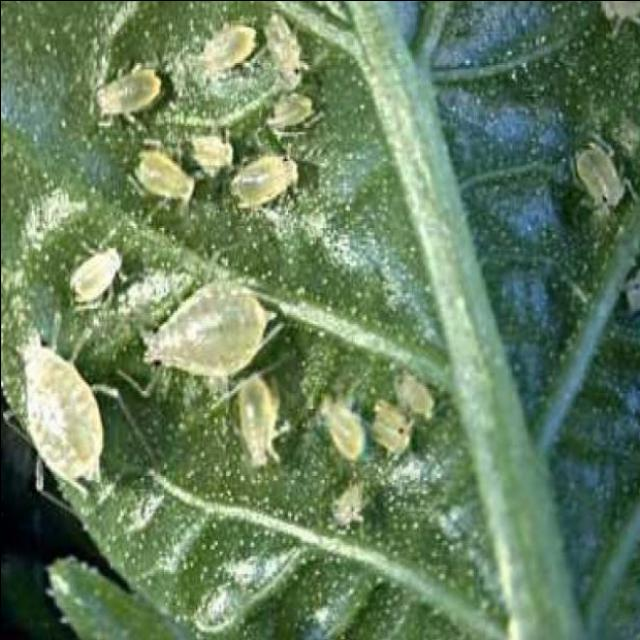Aphids: (83, 8, 331, 216), (1, 308, 178, 530), (107, 222, 303, 416), (306, 372, 440, 462), (200, 367, 290, 482), (38, 212, 138, 310), (554, 132, 640, 231)
